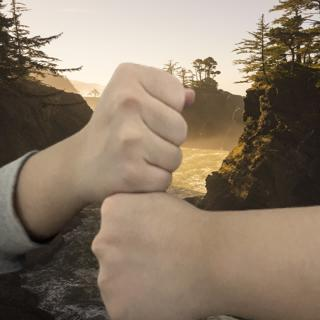CAREFUL: (37, 61, 305, 319)
